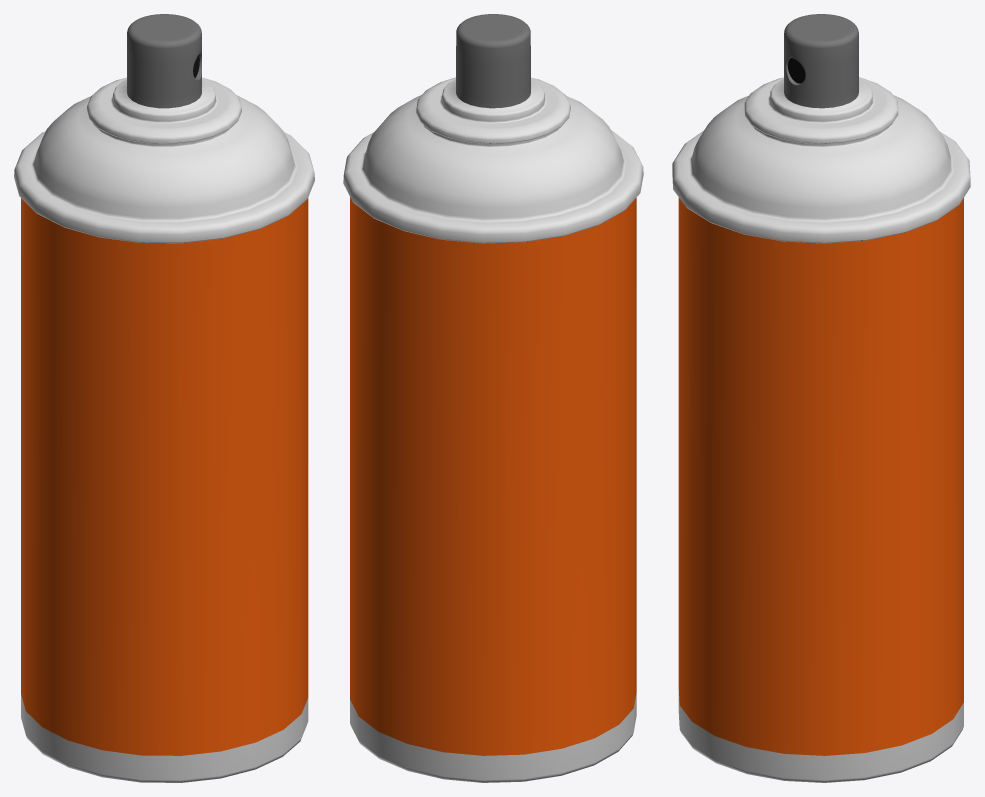
Rendered from spreyson.fbx.
3 renders of one model, left to right at view 1: azimuth 30°, elevation 25°; view 2: azimuth 150°, elevation 25°; view 3: azimuth 270°, elevation 25°, orthographic.
Visible parts, largest first — view 1: spreygovde.011; view 2: spreygovde.011; view 3: spreygovde.011.
Part boxes in pixels (x1,y1,x2,y2): spreygovde.011: (14,14,314,782); spreygovde.011: (343,14,643,782); spreygovde.011: (672,14,970,782).
Bounding box in the file's own units: 0.7599 × 1.94 × 0.7547.
